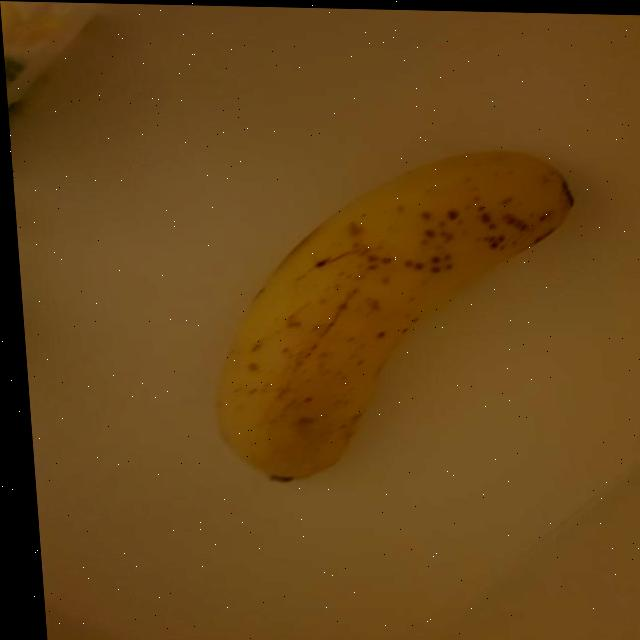banana: (179, 129, 601, 502)
